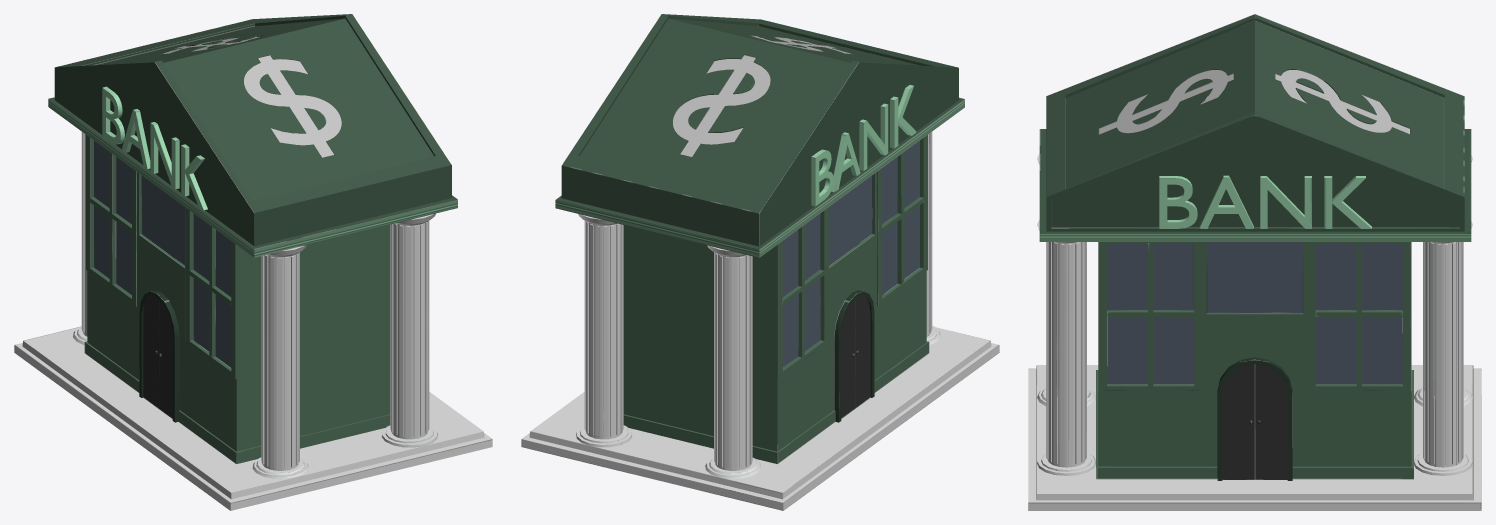
The picture shows the model from 3 angles, left to right: view 1: azimuth 30°, elevation 25°; view 2: azimuth 150°, elevation 25°; view 3: azimuth 270°, elevation 25°; orthographic projection. The views are drawn at different scales.
Parts seen in each view (by area): view 1: BANK; view 2: BANK; view 3: BANK.
Boxes of the visible parts, x1,y1,x2,y2 form: BANK: [14, 14, 492, 510]; BANK: [521, 14, 999, 510]; BANK: [1028, 14, 1481, 510].
Bounding box in the file's own units: 175 × 231 × 250.
Materials: 1 (1 with a texture image).
